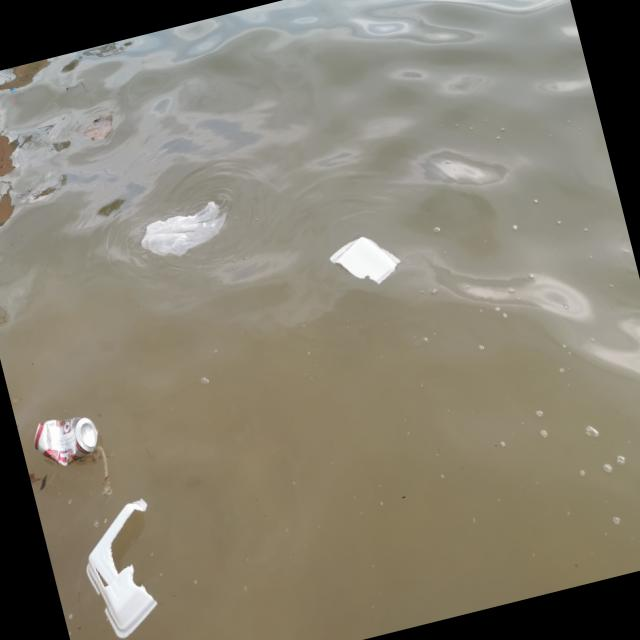can: (25, 405, 108, 477)
foam: (72, 497, 178, 640), (327, 230, 404, 293)
